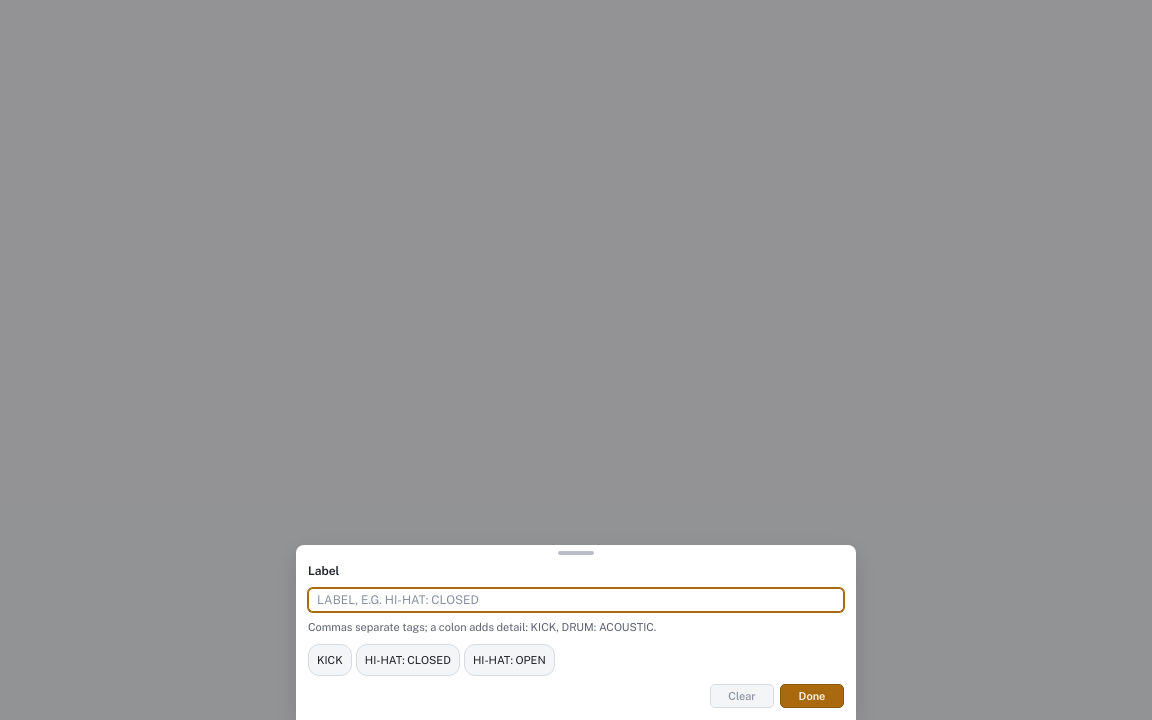
LabelSheet › offers the known wordings that contain what was typed, and takes one as the text
Check: the button "KICK" is shown, box 308,644 -> 352,676
Step 1. Type "hi-hat" into the field named "Hand label" → (576, 600), box 308,588 -> 844,612
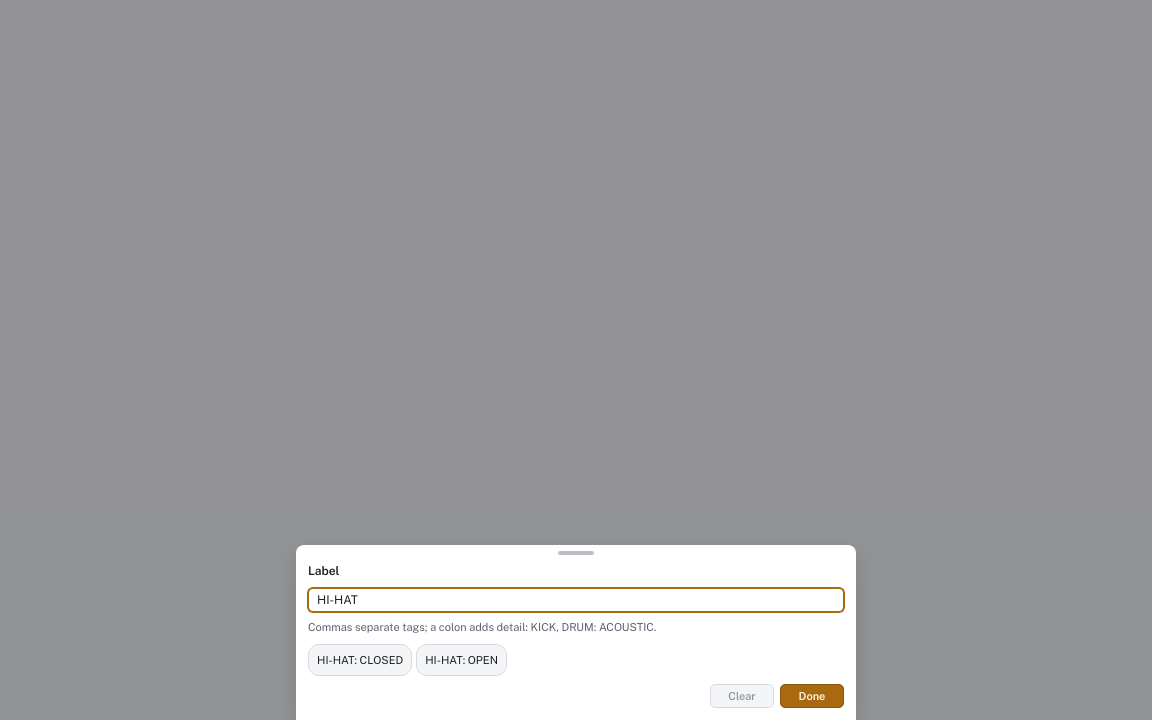
Step 2. Click the button "HI-HAT: OPEN" → (462, 660), box 416,644 -> 507,676
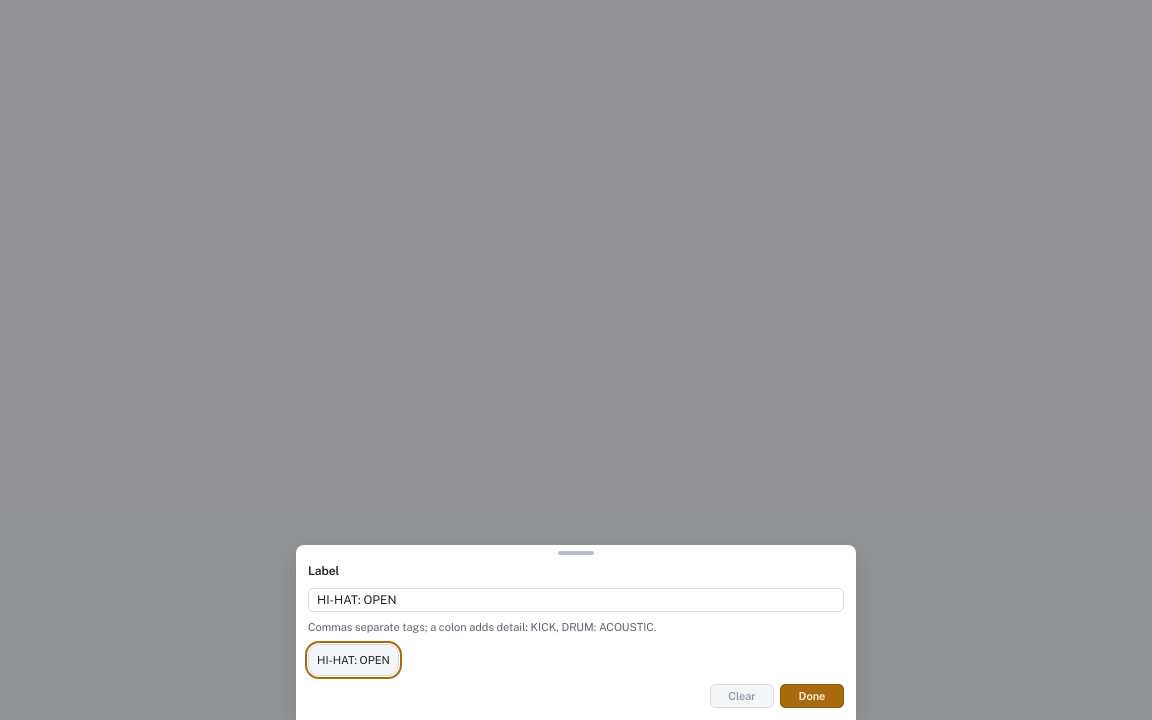
Check: the field named "Hand label" holds "HI-HAT: OPEN", box 308,588 -> 844,612
